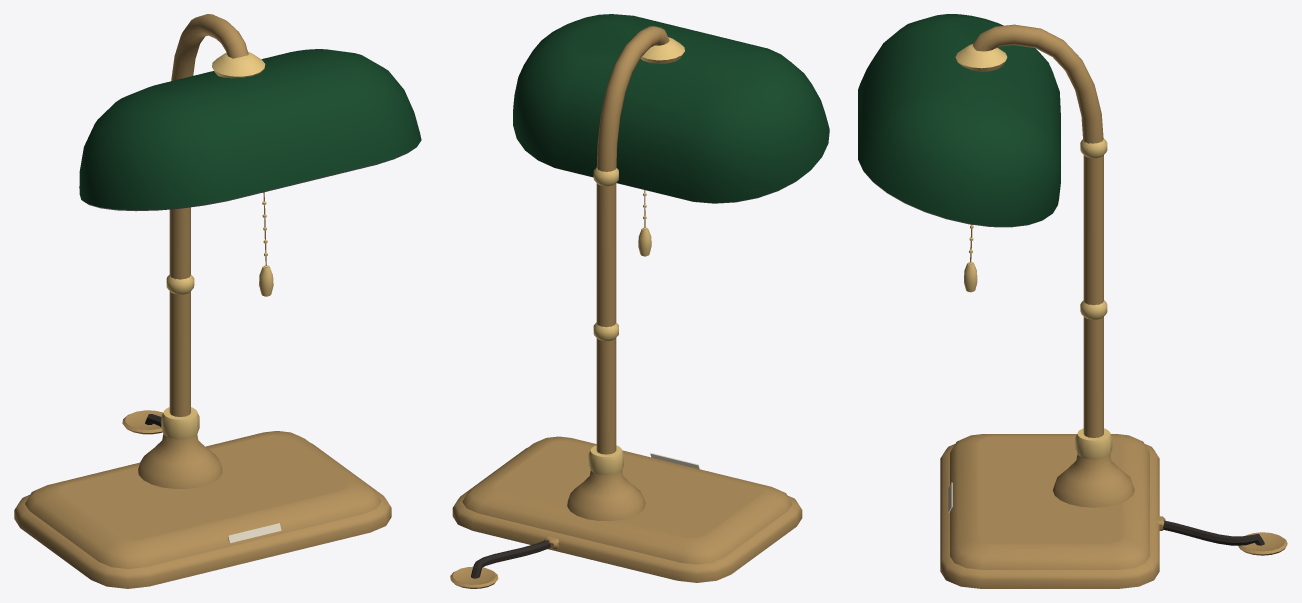
Rendered from desk_lamp.glb.
The picture shows the model from 3 angles, left to right: view 1: azimuth 30°, elevation 25°; view 2: azimuth 150°, elevation 25°; view 3: azimuth 270°, elevation 25°; orthographic projection. The views are drawn at different scales.
Parts seen in each view (by area): view 1: desk_lamp_body, lamp_shade; view 2: desk_lamp_body, lamp_shade; view 3: desk_lamp_body, lamp_shade.
Boxes of the visible parts, box(x1,y1,x2,y2) form: desk_lamp_body: box(14, 14, 391, 588); lamp_shade: box(79, 49, 421, 211); desk_lamp_body: box(450, 26, 802, 588); lamp_shade: box(513, 14, 829, 203); desk_lamp_body: box(940, 24, 1287, 588); lamp_shade: box(858, 14, 1060, 227).
Size of the model in its own units: 0.2552 by 0.4011 by 0.3134.
